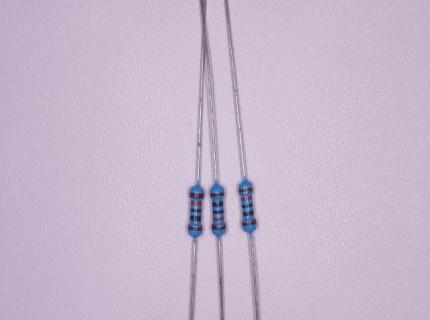Black band: (190, 216, 201, 222), (212, 201, 223, 207), (190, 208, 202, 213), (243, 210, 253, 216), (242, 203, 253, 208), (213, 210, 224, 213)
Brown band: (242, 220, 256, 226), (190, 192, 203, 198), (239, 187, 252, 193), (211, 192, 224, 197), (212, 225, 225, 230), (188, 227, 202, 231)
Orange band: (190, 201, 202, 206), (241, 196, 252, 201), (213, 217, 224, 221)
